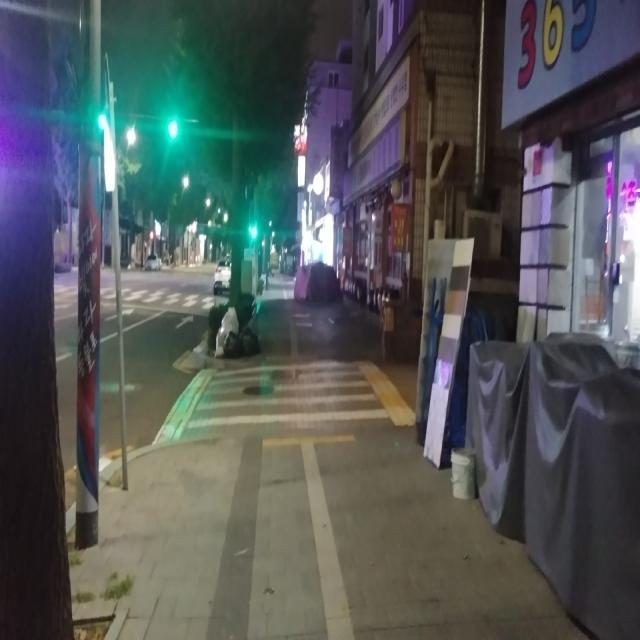횡단보도: (186, 360, 392, 432)
